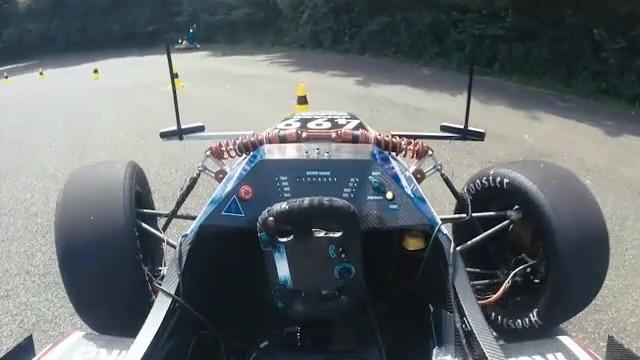yellow_cone: (288, 82, 314, 121), (168, 67, 184, 90), (91, 65, 102, 81)
